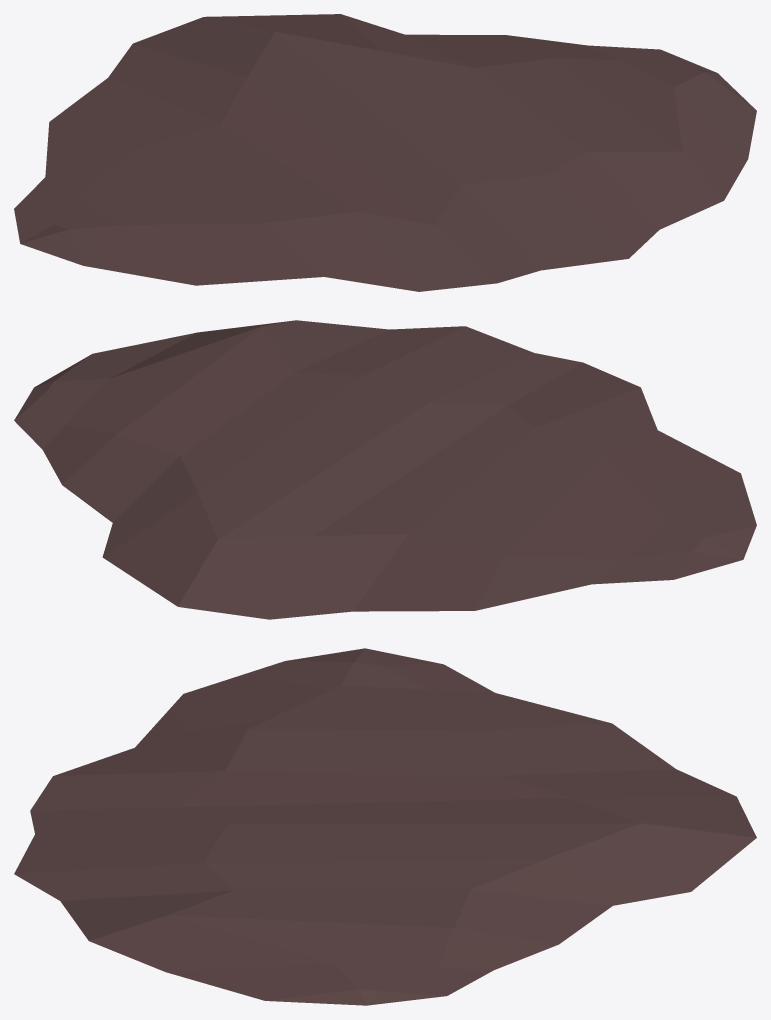
Rendered from terrain_6.FBX.
3 renders of one model, top to bottom at view 1: azimuth 30°, elevation 25°; view 2: azimuth 150°, elevation 25°; view 3: azimuth 270°, elevation 25°, orthographic. The views are drawn at different scales.
Visible parts, largest first — view 1: terrain_6; view 2: terrain_6; view 3: terrain_6.
Part boxes in pixels (x1=…): terrain_6: x1=14, y1=14, x2=756, y2=291; terrain_6: x1=14, y1=320, x2=756, y2=619; terrain_6: x1=14, y1=648, x2=756, y2=1005.
Size of the model in its own units: 801 by 24.89 by 704.
